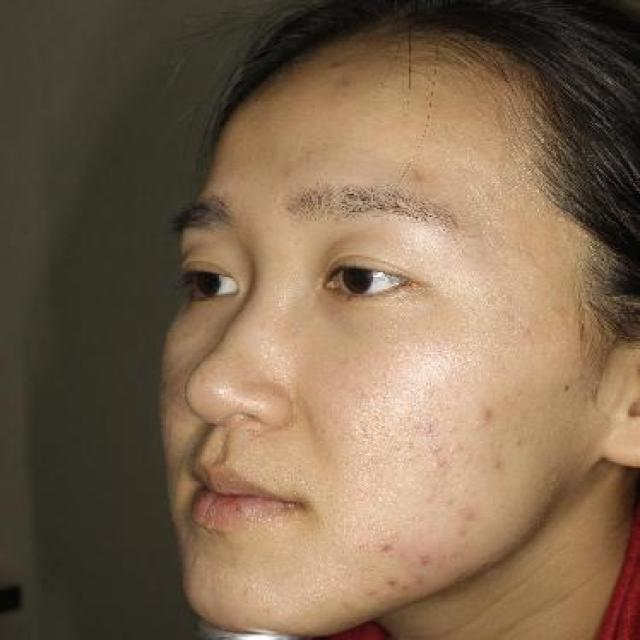pustules: (404, 450, 419, 464), (385, 318, 402, 329), (421, 494, 435, 506)
